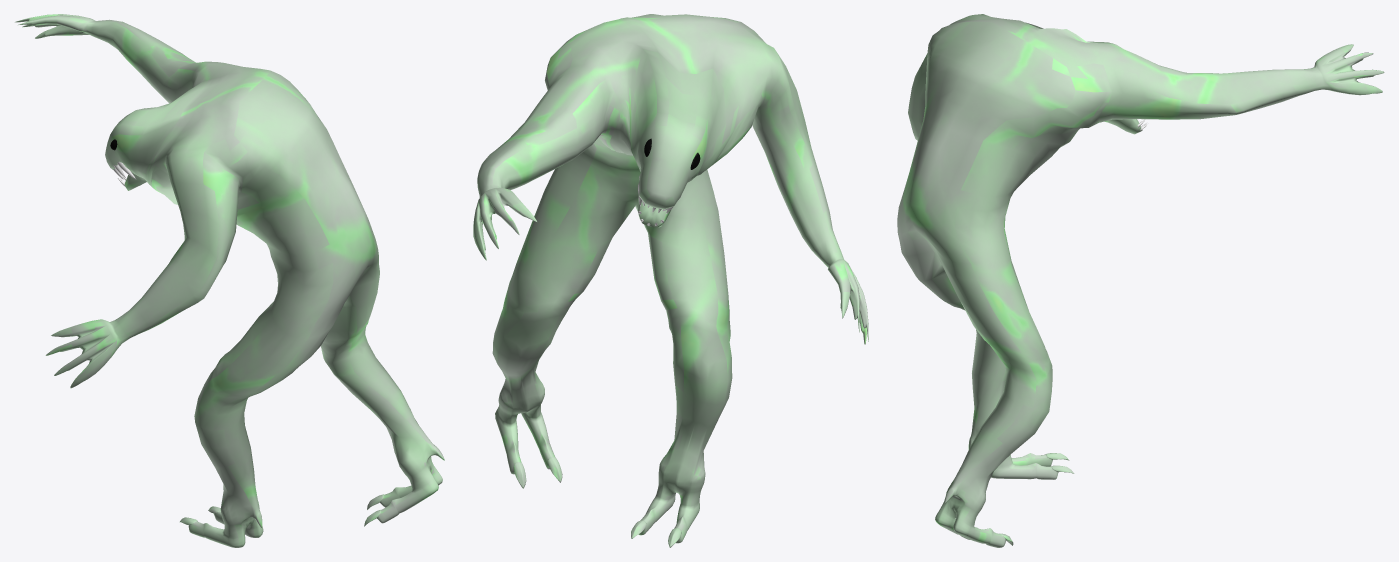
The model's file is Berserkeraranar.0035.obj.
3 views of the same model, side by side, from view 1: azimuth 30°, elevation 25°; view 2: azimuth 150°, elevation 25°; view 3: azimuth 270°, elevation 25° (orthographic). The views are drawn at different scales.
Visible parts, largest first — view 1: polySurface27; view 2: polySurface27; view 3: polySurface27.
Part boxes in pixels (box(x1,y1,x2,y2)): polySurface27: box(15, 14, 444, 547); polySurface27: box(473, 14, 868, 547); polySurface27: box(897, 14, 1384, 547).
Bounding box in the file's own units: 17.1 × 20.53 × 19.74.
1 material, 1 textured.
